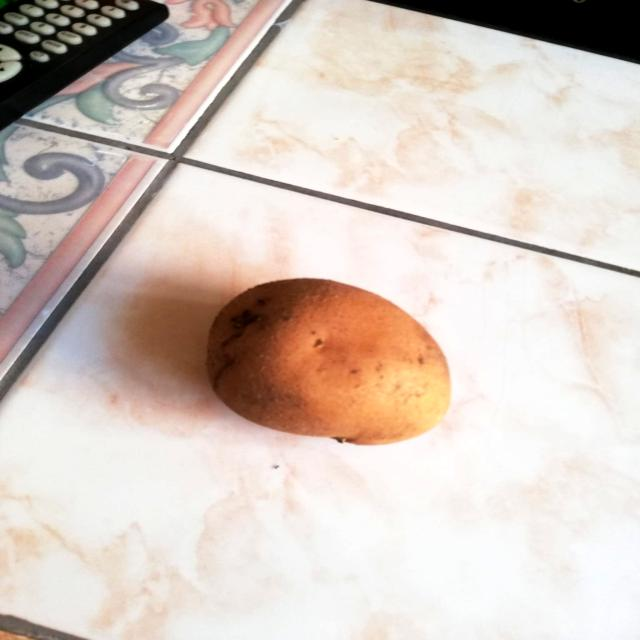potato: (198, 269, 462, 451)
